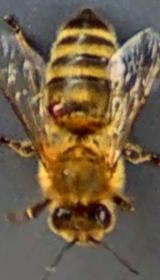varroa_mite: (41, 96, 76, 120)
